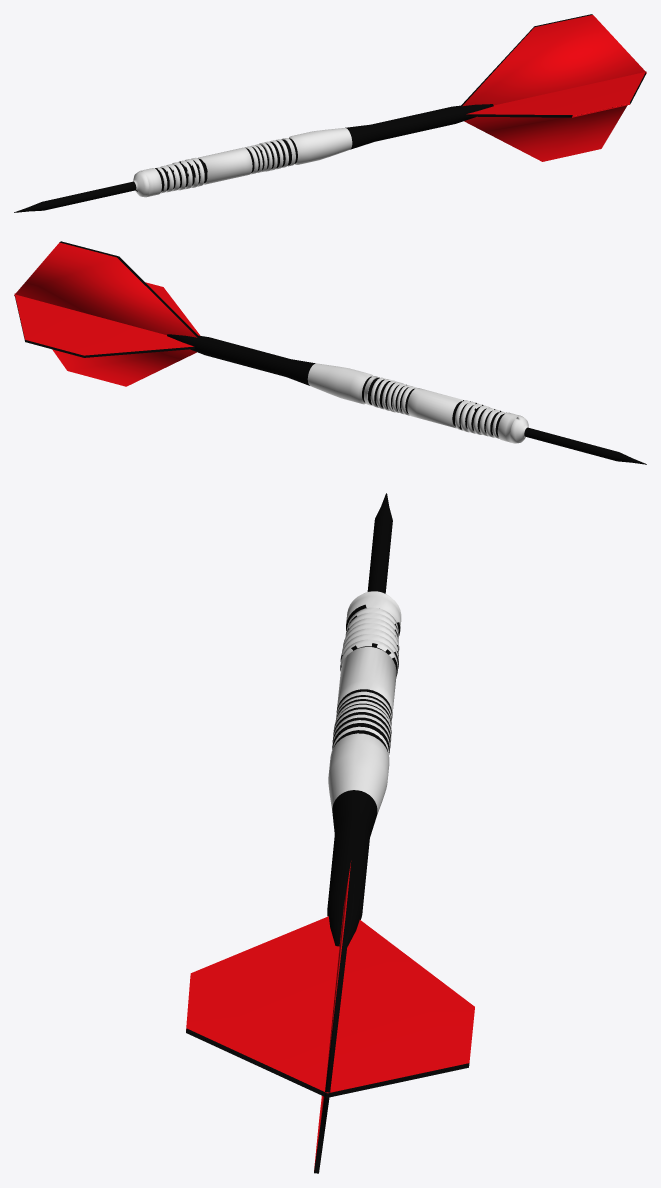
File: dart.fbx
3 views of the same model, one above another, from view 1: azimuth 30°, elevation 25°; view 2: azimuth 150°, elevation 25°; view 3: azimuth 270°, elevation 25° (orthographic). The views are drawn at different scales.
Parts seen in each view (by area): view 1: dart; view 2: dart; view 3: dart.
Boxes of the visible parts, x1=… form: dart: x1=14, y1=14, x2=646, y2=212; dart: x1=14, y1=241, x2=646, y2=464; dart: x1=186, y1=493, x2=474, y2=1173.
Bounding box in the file's own units: 32.04 × 6.41 × 6.5.
